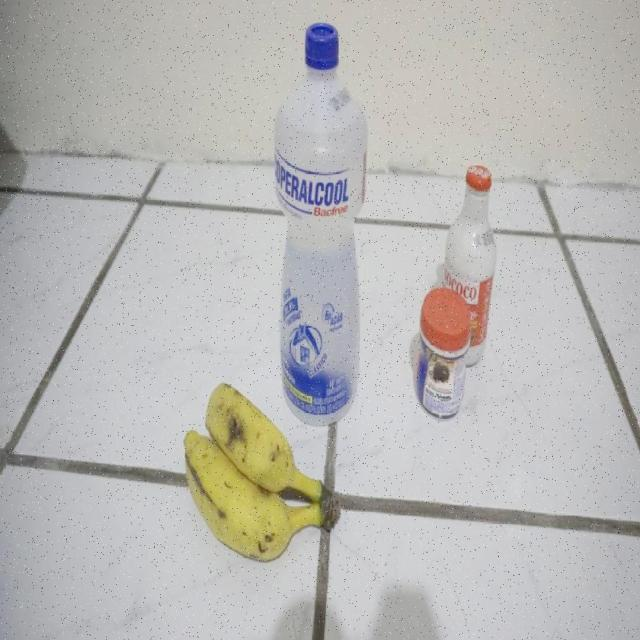AlcoholBottle: (273, 17, 368, 378)
Banana: (182, 383, 338, 588)
CoconutMilk: (441, 164, 499, 282)
Yeast: (410, 286, 470, 421)
